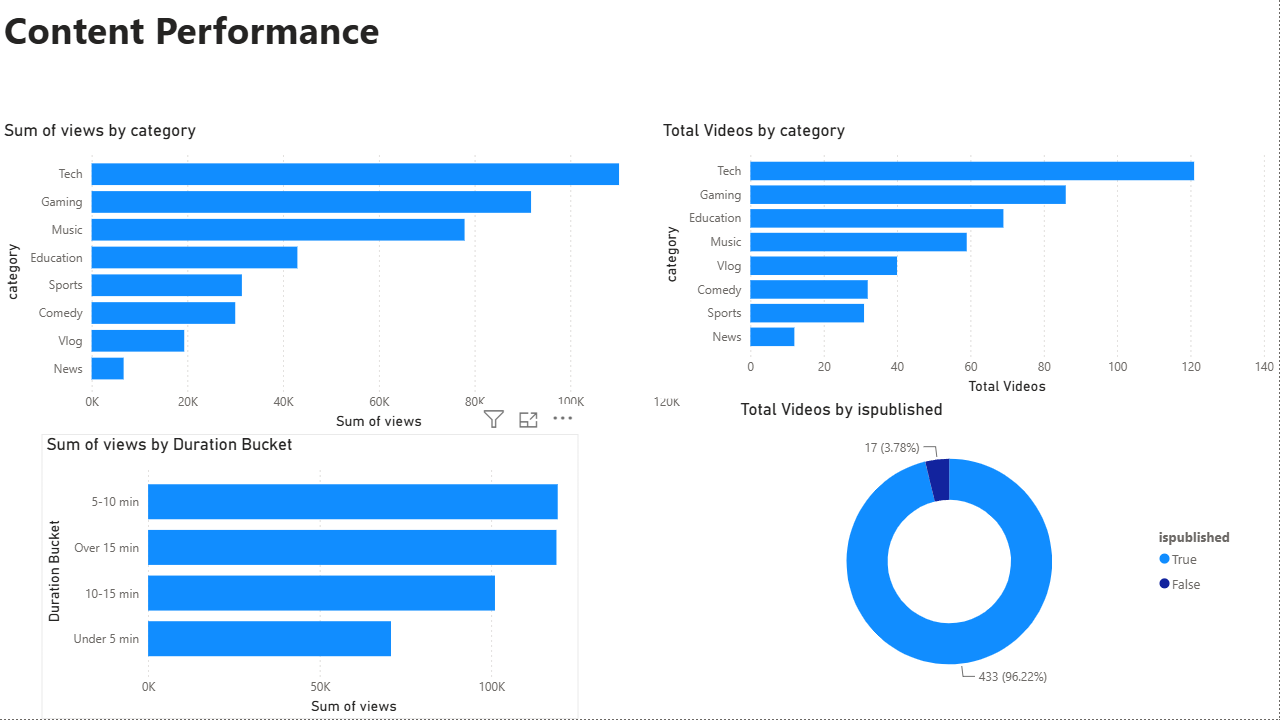

The page's visual inventory and layout, read from the dashboard file:
{"tool":"powerbi","page":{"name":"Content Performance","canvas":[1280,720],"ordinal":2},"visuals":[{"type":"clusteredBarChart","fields":{"Category":["videos.category"],"Y":["Sum(videos.views)"]},"box":[0,121.2,686.2,313.8],"z":0},{"type":"barChart","fields":{"Category":["videos.category"],"Y":["videos.Total Videos"]},"box":[658.8,121.2,621.2,278.8],"z":1000},{"type":"barChart","fields":{"Category":["videos.Duration Bucket"],"Y":["Sum(videos.views)"]},"box":[42.5,435,537.5,285],"z":2000},{"type":"donutChart","fields":{"Category":["videos.ispublished"],"Y":["videos.Total Videos"]},"box":[736.2,400,517.5,306.2],"z":3000},{"type":"textbox","box":[0,0,580,88.8],"z":3001}]}

Visuals, with their boxes in screenshot pixels (x1, y1, x2, y2), scaled from the page's 1280x720 canvas onto the 1280x720 screenshot:
clusteredBarChart - videos.category x Sum(videos.views): region(0, 121, 686, 435)
barChart - videos.category x videos.Total Videos: region(659, 121, 1279, 400)
barChart - videos.Duration Bucket x Sum(videos.views): region(42, 435, 580, 719)
donutChart - videos.ispublished x videos.Total Videos: region(736, 400, 1254, 706)
textbox: region(0, 0, 580, 89)
